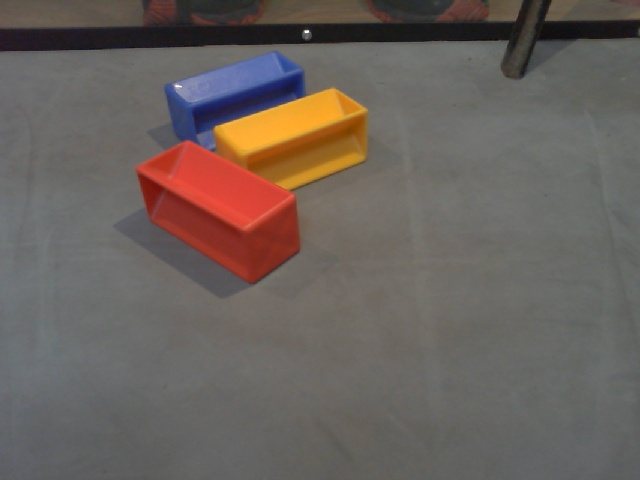BlueSample: (162, 52, 311, 153)
RedSample: (131, 136, 301, 286)
YellowSample: (214, 87, 372, 194)
